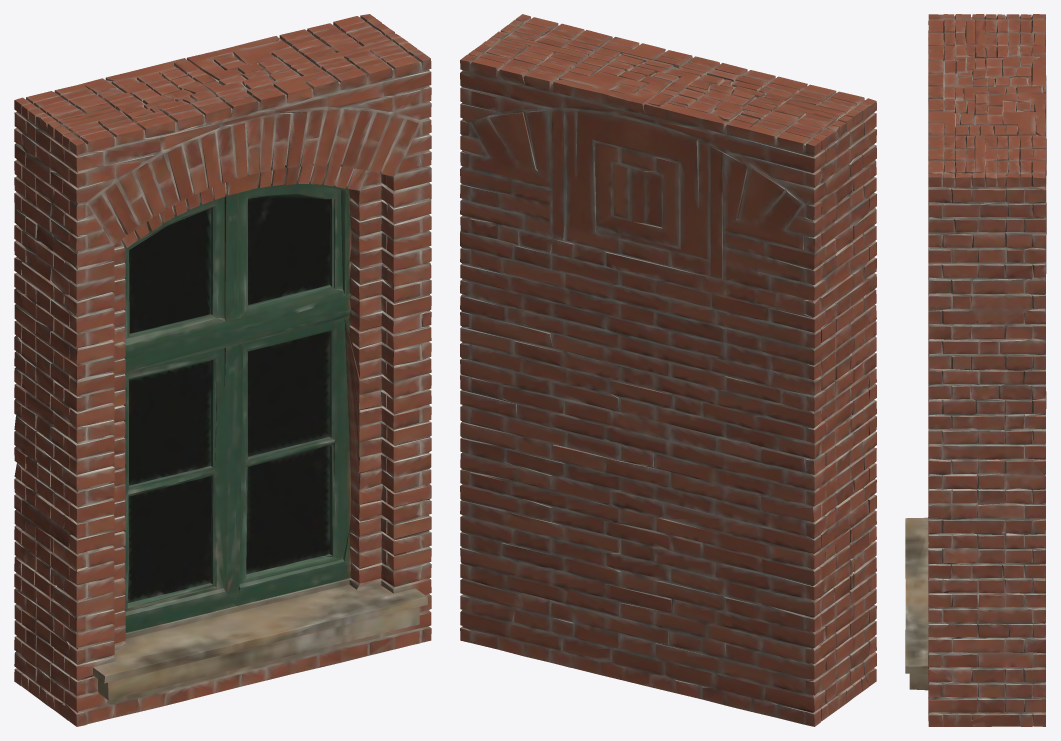
The model's file is familok_window_segmental.glb.
3 renders of one model, left to right at view 1: azimuth 30°, elevation 25°; view 2: azimuth 150°, elevation 25°; view 3: azimuth 270°, elevation 25°, orthographic. The views are drawn at different scales.
Parts seen in each view (by area): view 1: main; view 2: main; view 3: main.
Boxes of the visible parts, x1,y1,x2,y2 form: main: (14, 14, 431, 726); main: (460, 14, 876, 726); main: (905, 14, 1046, 726).
Size of the model in its own units: 1.17 by 1.84 by 0.4277.
1 material, 1 textured.
